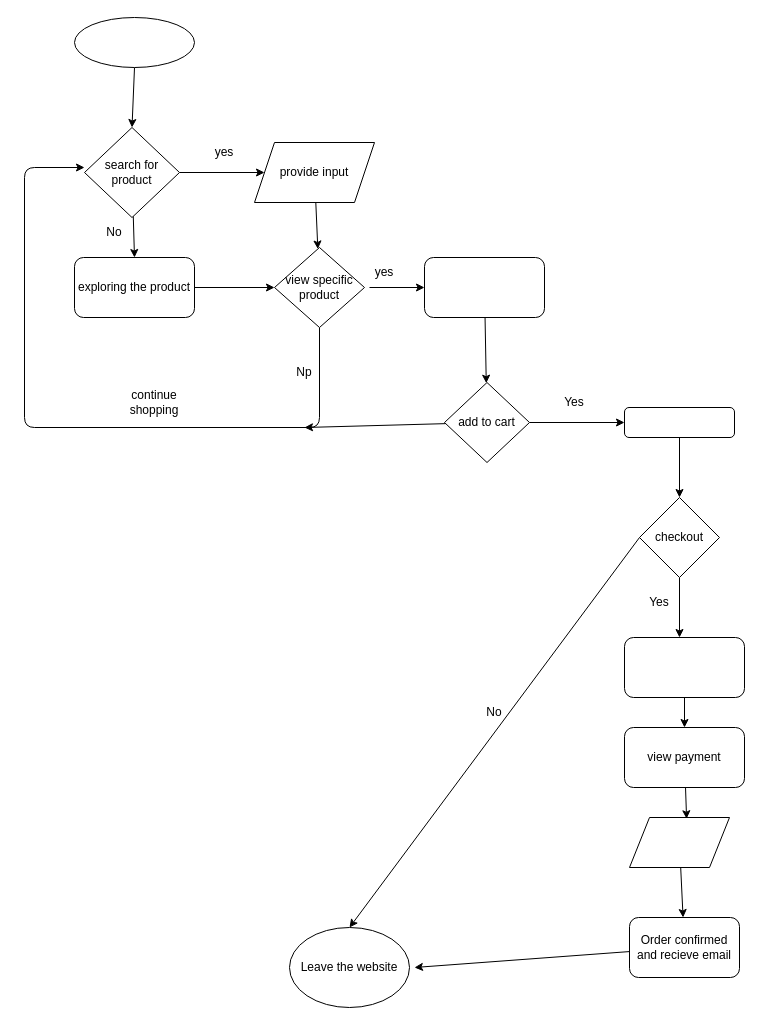
The diagram is 762 pixels wide and 1025 high, and some of its shapes have lost their labels. Each missing label, with the centre of its shape:
"entering the website" belongs at pixel 134 42.
"payment input" belongs at pixel 679 842.
"product's webpage" belongs at pixel 484 287.
"recieve confirmation" belongs at pixel 679 422.
"View Cart" belongs at pixel 684 667.
